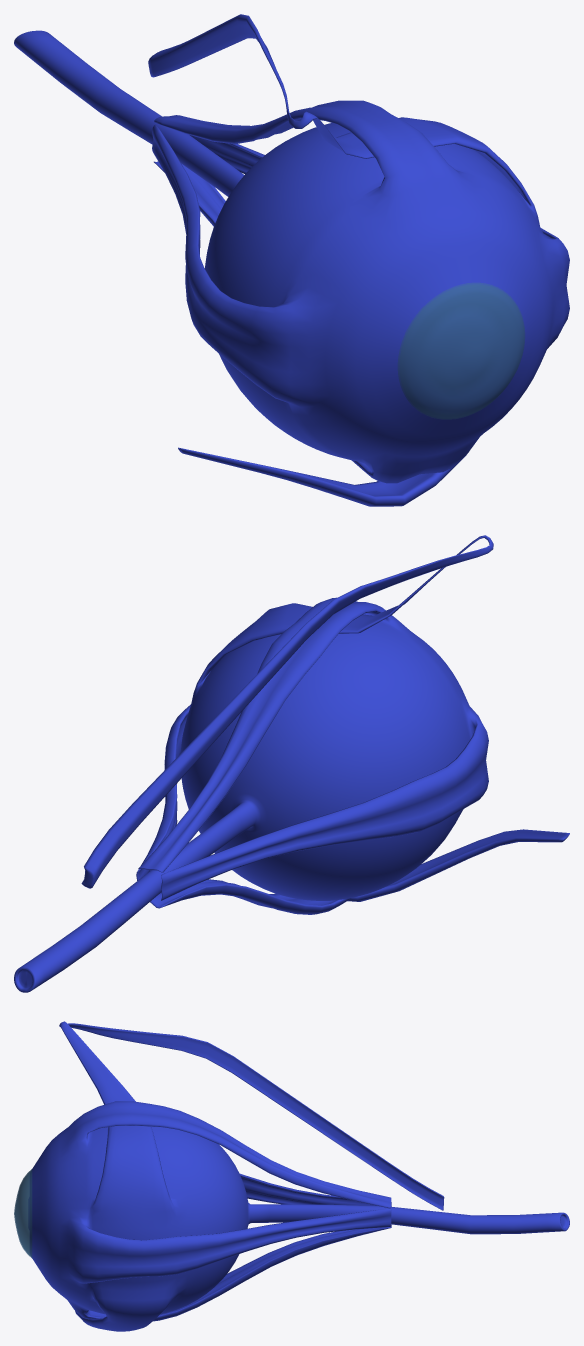
The model's file is Eye_Single.FBX.
3 renders of one model, top to bottom at view 1: azimuth 30°, elevation 25°; view 2: azimuth 150°, elevation 25°; view 3: azimuth 270°, elevation 25°, orthographic. The views are drawn at different scales.
Visible parts, largest first — view 1: Sclera, Cornea; view 2: Sclera; view 3: Sclera, Cornea.
Boxes of the visible parts, <box> form: Sclera: <box>14,14,569,506</box>; Cornea: <box>397,282,525,419</box>; Sclera: <box>14,535,569,992</box>; Sclera: <box>28,1021,569,1331</box>; Cornea: <box>14,1169,32,1257</box>.
Size of the model in its own units: 0.0688 by 0.0709 by 0.134.
